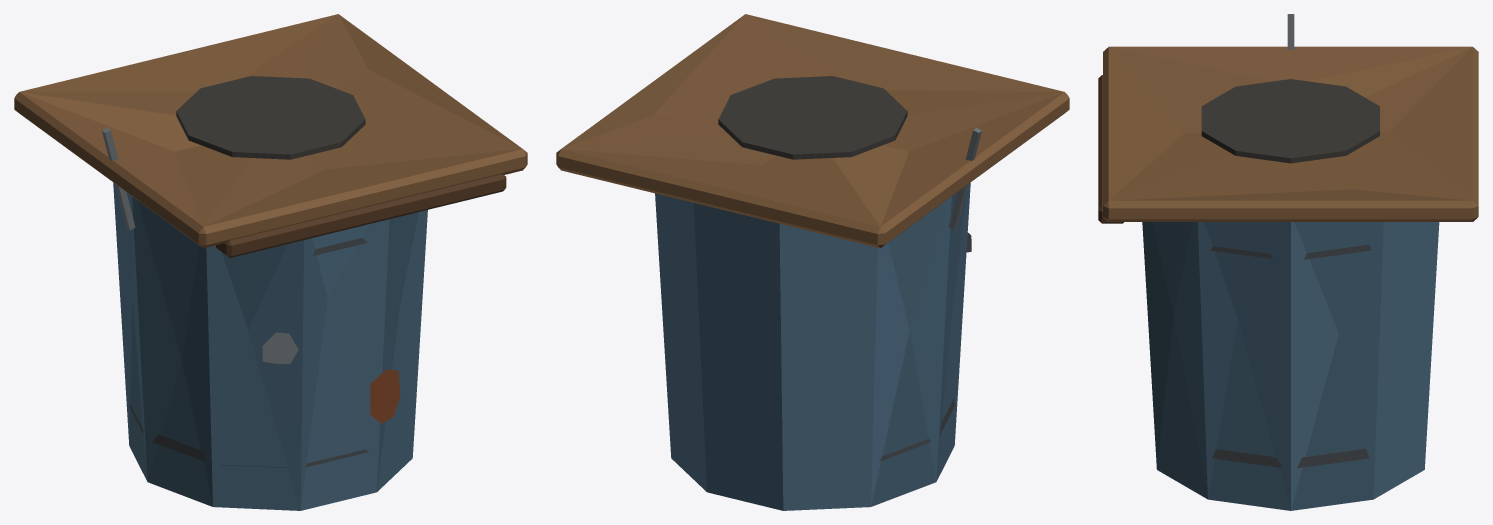
File: toilet_samodelnyy_idle.glb
3 renders of one model, left to right at view 1: azimuth 30°, elevation 25°; view 2: azimuth 150°, elevation 25°; view 3: azimuth 270°, elevation 25°, orthographic.
Parts seen in each view (by area): view 1: toilet_samodelnyy_idle; view 2: toilet_samodelnyy_idle; view 3: toilet_samodelnyy_idle.
Boxes of the visible parts, box(x1,y1,x2,y2) form: toilet_samodelnyy_idle: box(14, 14, 527, 510); toilet_samodelnyy_idle: box(556, 14, 1069, 510); toilet_samodelnyy_idle: box(1098, 14, 1478, 510).
Size of the model in its own units: 0.4034 by 0.4209 by 0.405.
1 material, 1 textured.
